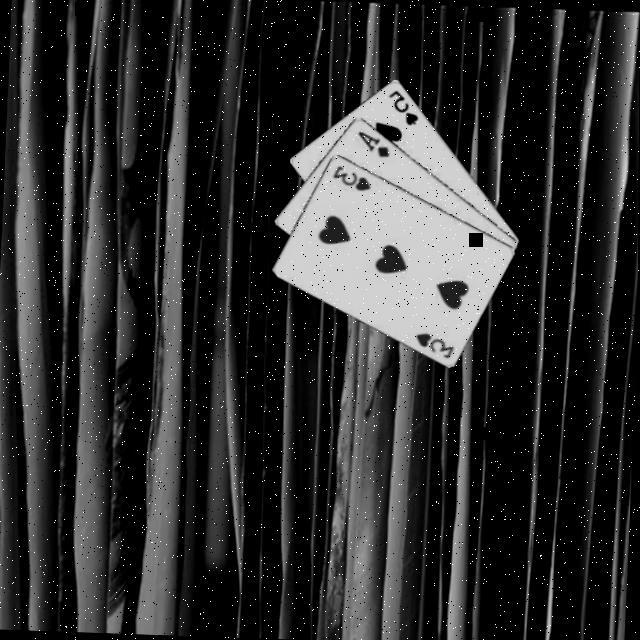3H: (412, 328, 458, 360), (331, 161, 376, 193)
5S: (386, 85, 423, 126)
AD: (355, 127, 394, 159)
